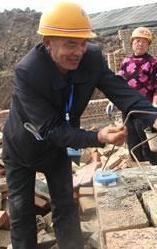gloves: (1, 0, 1, 1)
hard-hat: (35, 0, 97, 39)
